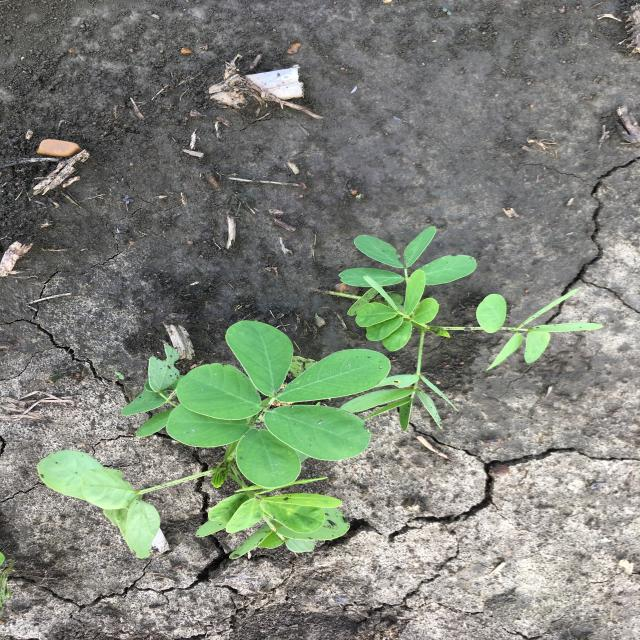Sicklepod: (34, 319, 394, 562), (324, 224, 608, 432)
